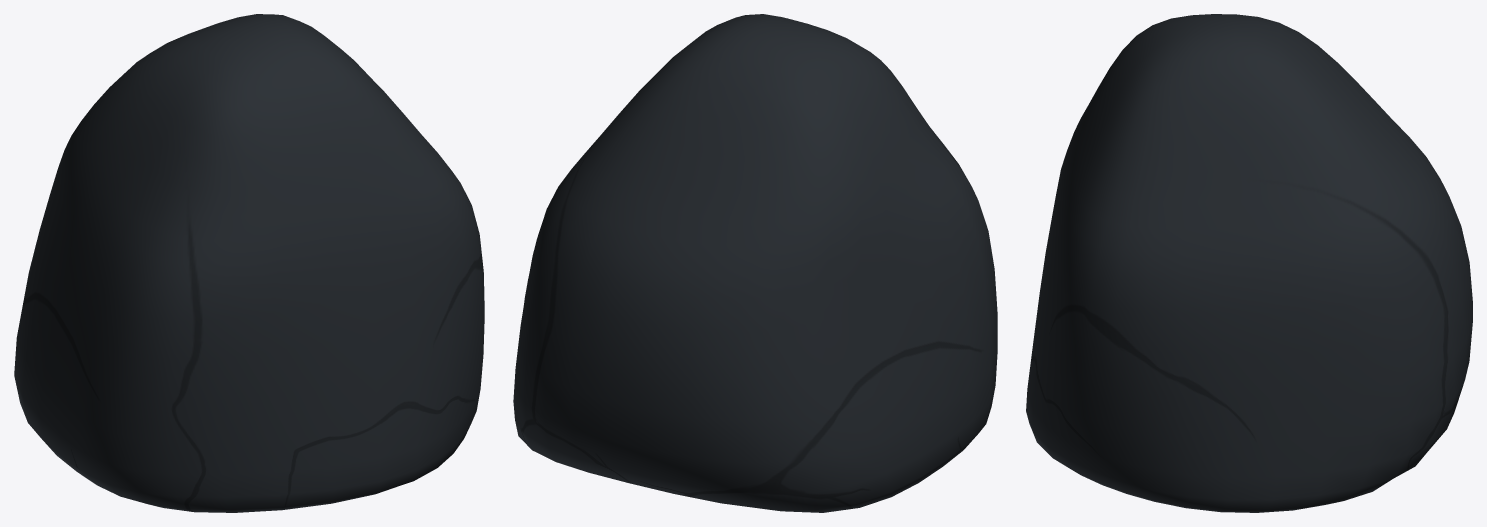
Rendered from Obstacle.fbx.
3 renders of one model, left to right at view 1: azimuth 30°, elevation 25°; view 2: azimuth 150°, elevation 25°; view 3: azimuth 270°, elevation 25°, orthographic. The views are drawn at different scales.
Parts seen in each view (by area): view 1: Obstacle; view 2: Obstacle; view 3: Obstacle.
Part boxes in pixels (box(x1,y1,x2,y2)): Obstacle: box(14, 14, 484, 512); Obstacle: box(513, 14, 997, 512); Obstacle: box(1026, 14, 1472, 512).
Bounding box in the file's own units: 100 × 97.72 × 100.
